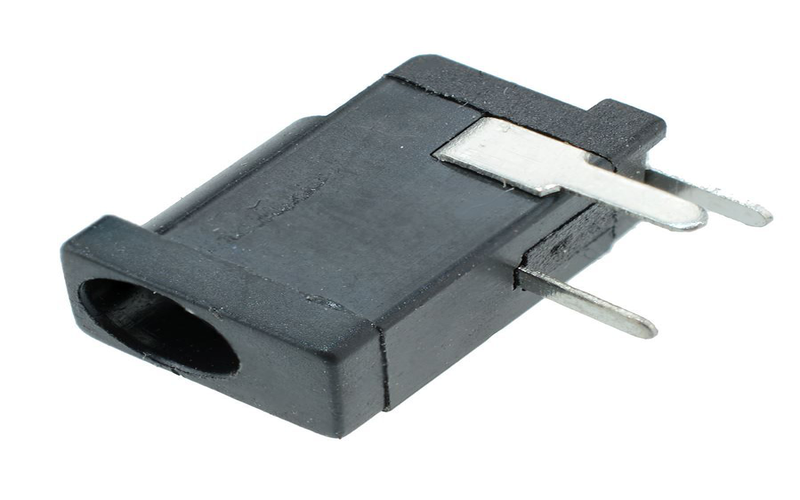Switches: (61, 48, 769, 393)
